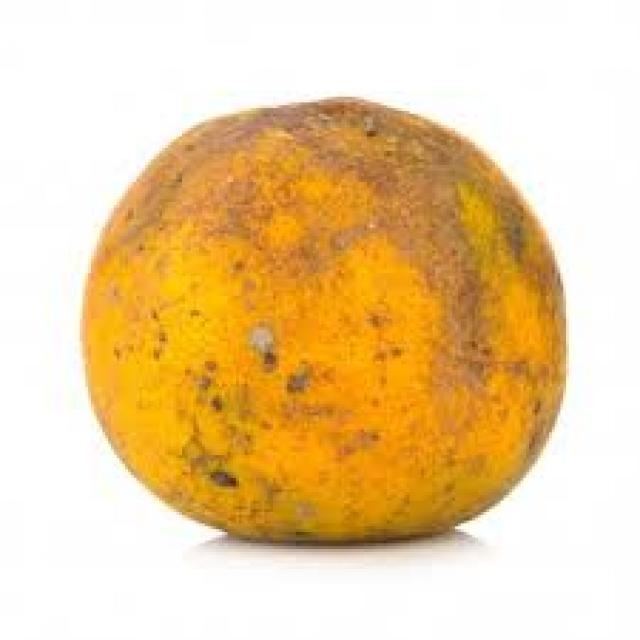organic waste: (80, 94, 566, 543)
